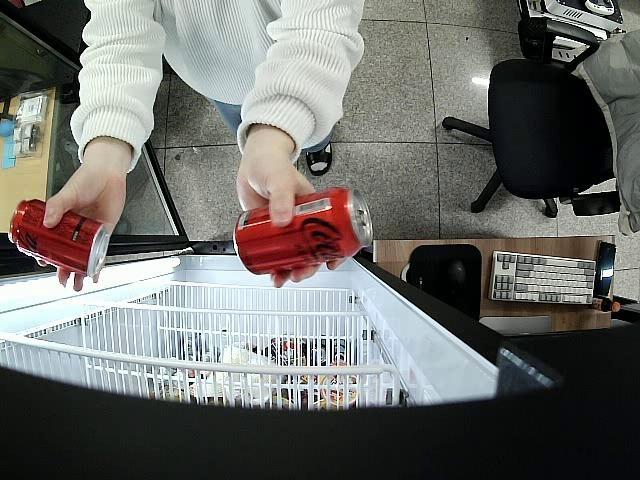11_cocaColaZero: (235, 186, 372, 276), (7, 200, 110, 276)
